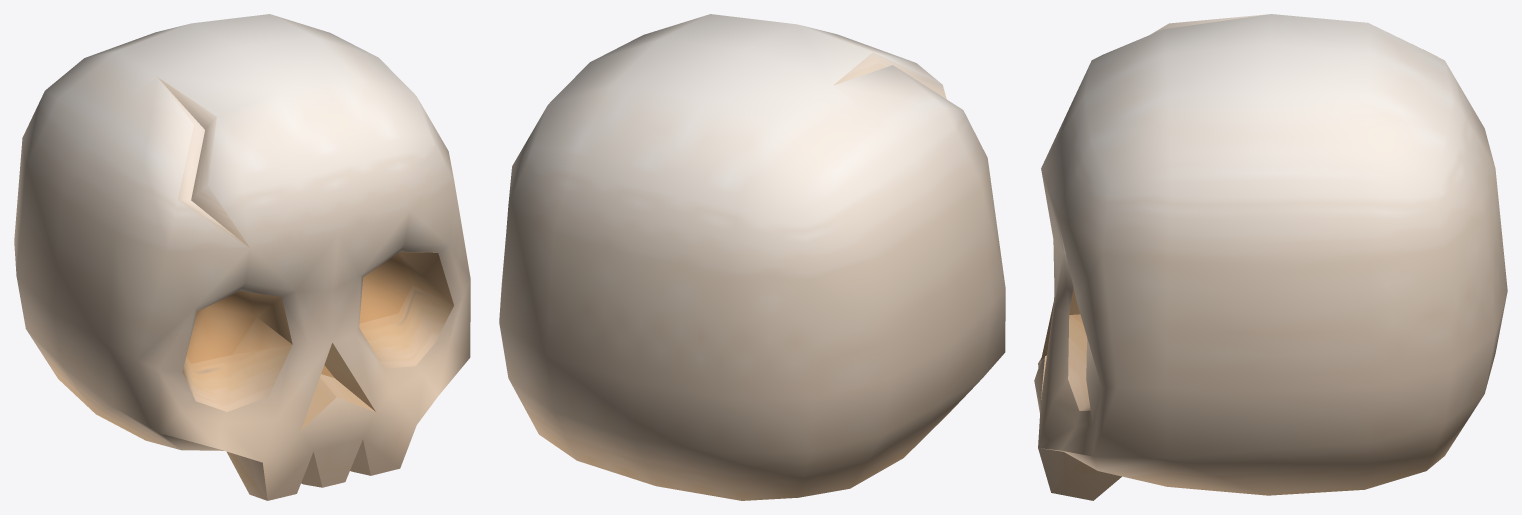
File: skull.glb
The picture shows the model from 3 angles, left to right: view 1: azimuth 30°, elevation 25°; view 2: azimuth 150°, elevation 25°; view 3: azimuth 270°, elevation 25°; orthographic projection. The views are drawn at different scales.
Visible parts, largest first — view 1: skull; view 2: skull; view 3: skull.
Boxes of the visible parts, box(x1,y1,x2,y2) form: skull: box(14, 14, 470, 500); skull: box(499, 14, 1005, 500); skull: box(1034, 14, 1507, 500).
Size of the model in its own units: 0.9176 by 0.8982 by 0.9072.
Materials: 1 (1 with a texture image).
